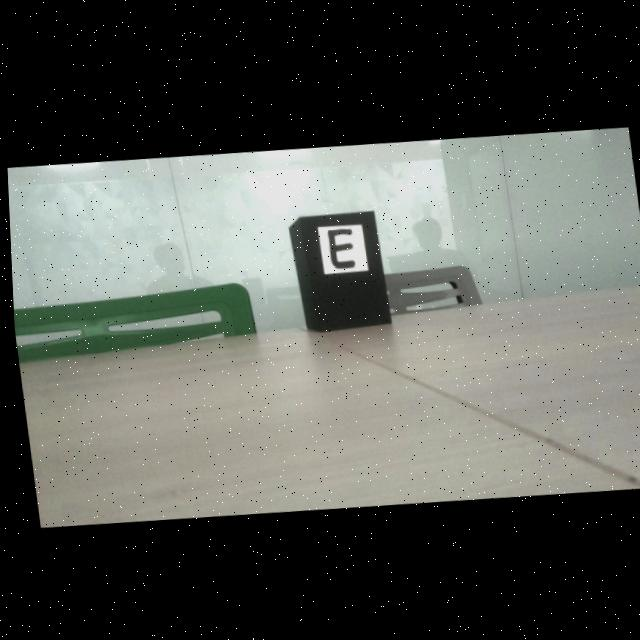E: (325, 227, 352, 265)
